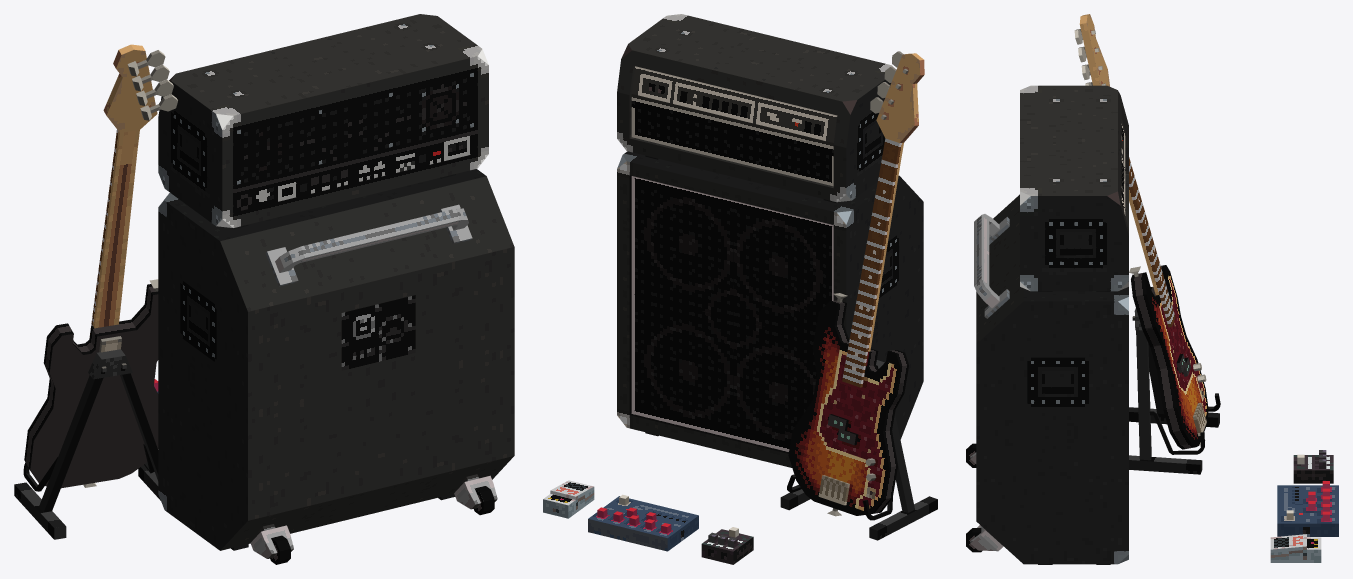
The model's file is guitarcompressed.glb.
The picture shows the model from 3 angles, left to right: view 1: azimuth 30°, elevation 25°; view 2: azimuth 150°, elevation 25°; view 3: azimuth 270°, elevation 25°; orthographic projection. The views are drawn at different scales.
Visible parts, largest first — view 1: BassStack_3, BassGuitar_0, GuitarStand_1; view 2: BassStack_3, BassGuitar_0, EQ_5, GuitarStand_1, Rat_6, Tuner_7; view 3: BassStack_3, BassGuitar_0, GuitarStand_1, EQ_5, Tuner_7, Rat_6.
Boxes of the visible parts, bbox=[...] form: BassStack_3: bbox=[158, 14, 514, 564]; BassGuitar_0: bbox=[24, 44, 177, 488]; GuitarStand_1: bbox=[14, 349, 160, 539]; BassStack_3: bbox=[617, 14, 923, 467]; BassGuitar_0: bbox=[788, 51, 924, 516]; EQ_5: bbox=[588, 494, 698, 551]; GuitarStand_1: bbox=[780, 360, 937, 540]; Rat_6: bbox=[701, 527, 753, 564]; Tuner_7: bbox=[543, 480, 594, 518]; BassStack_3: bbox=[966, 85, 1128, 564]; BassGuitar_0: bbox=[1074, 14, 1208, 449]; GuitarStand_1: bbox=[1129, 308, 1220, 474]; EQ_5: bbox=[1277, 481, 1338, 536]; Tuner_7: bbox=[1270, 534, 1321, 562]; Rat_6: bbox=[1293, 450, 1333, 483].
Size of the model in its own units: 1.14 by 1.47 by 1.16.
4 materials, 4 textured.
